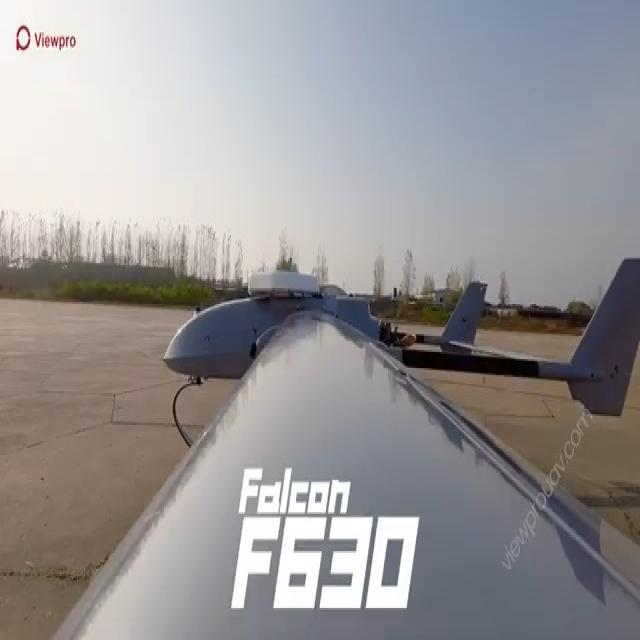drones: (159, 253, 640, 512)
